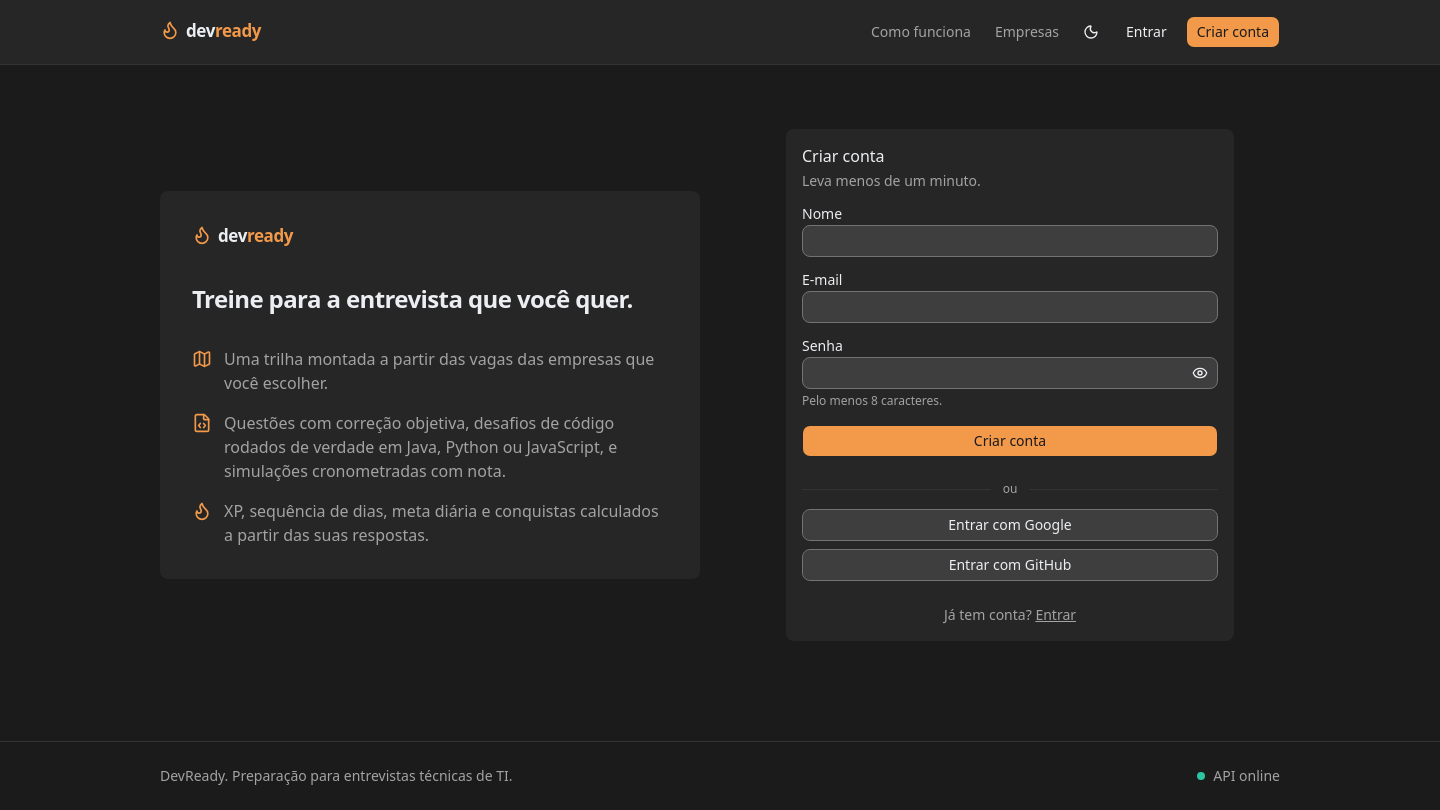
it: RegisterPage › mostra erros de campo vindos da API (422)
Type "Ana" into the field labelled "Nome" at (1010, 241), box [802,225,1218,257]
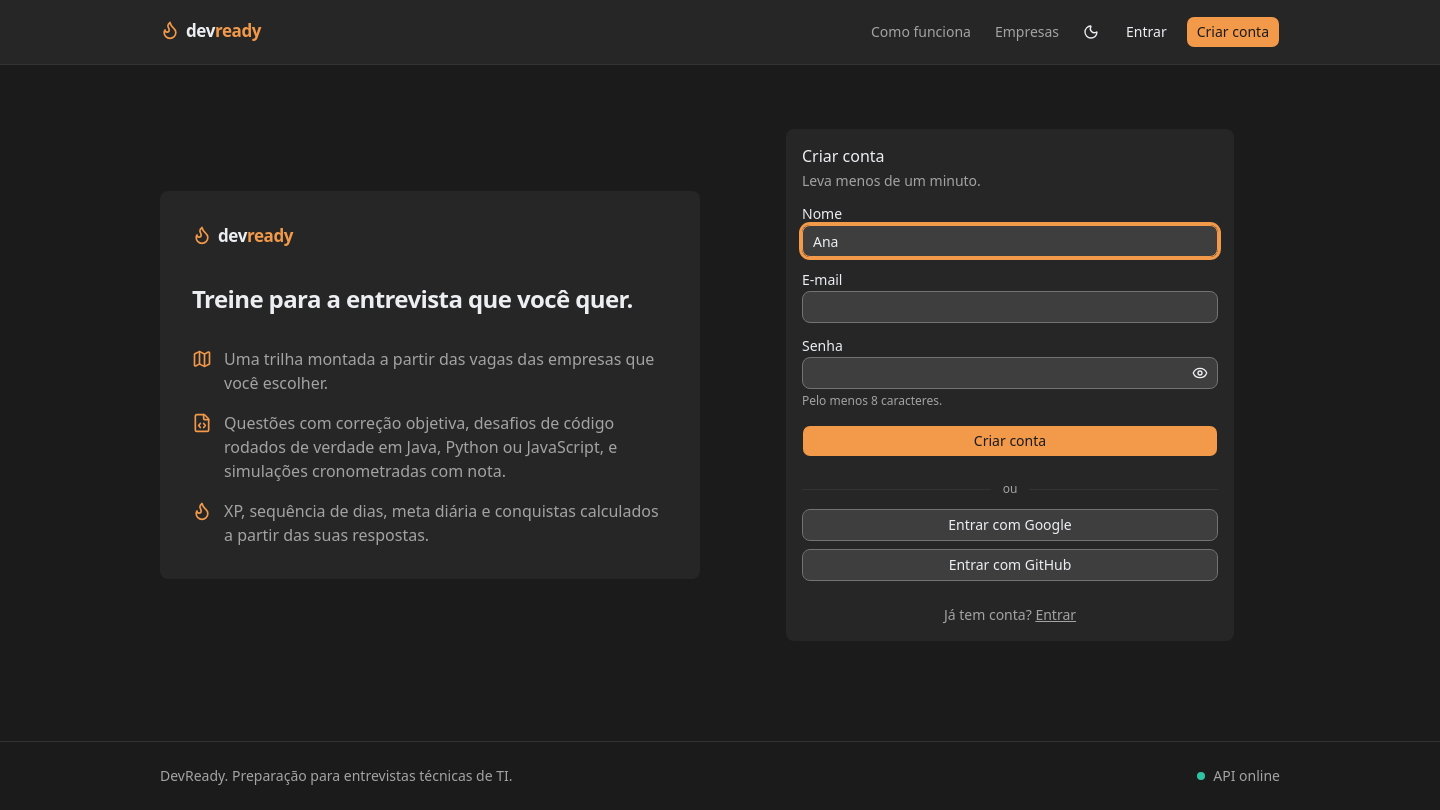
Type "ana@example.com" into the field labelled "E-mail" at (1010, 307), box [802,291,1218,323]
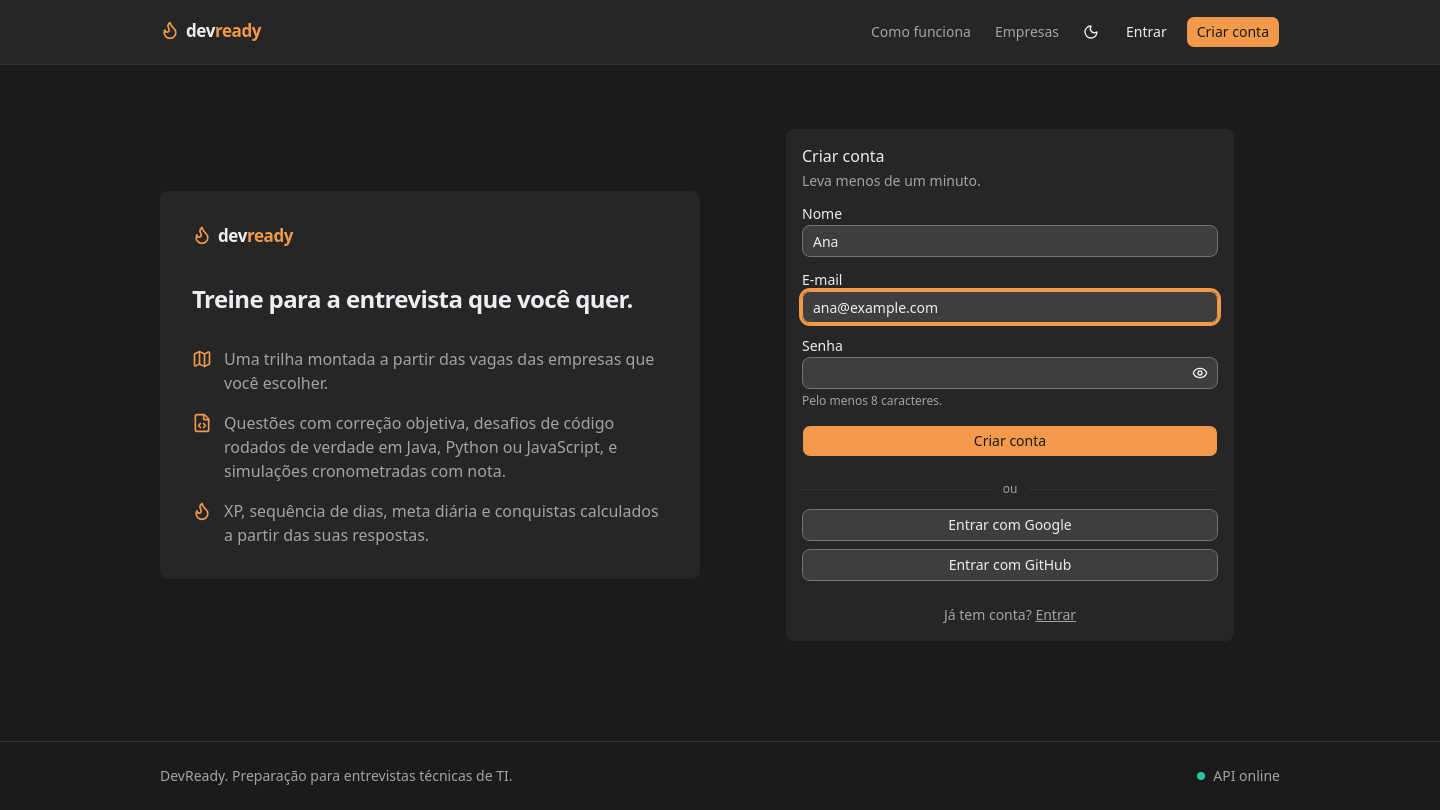
Type "senha-forte" into the password field labelled "Senha" at (1010, 373), box [802,357,1218,389]
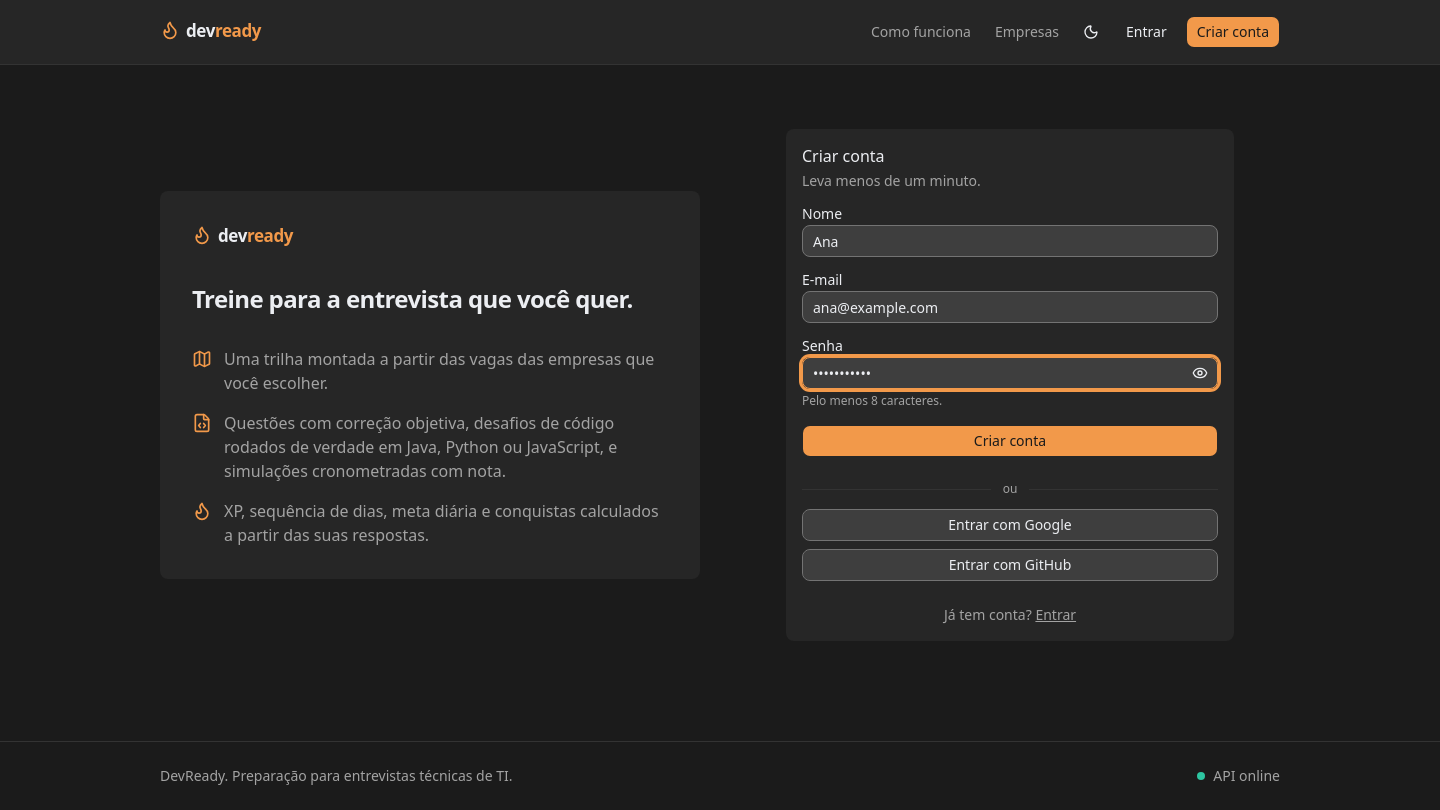
Click the button "Criar conta" at (1010, 441), box [802,425,1218,457]
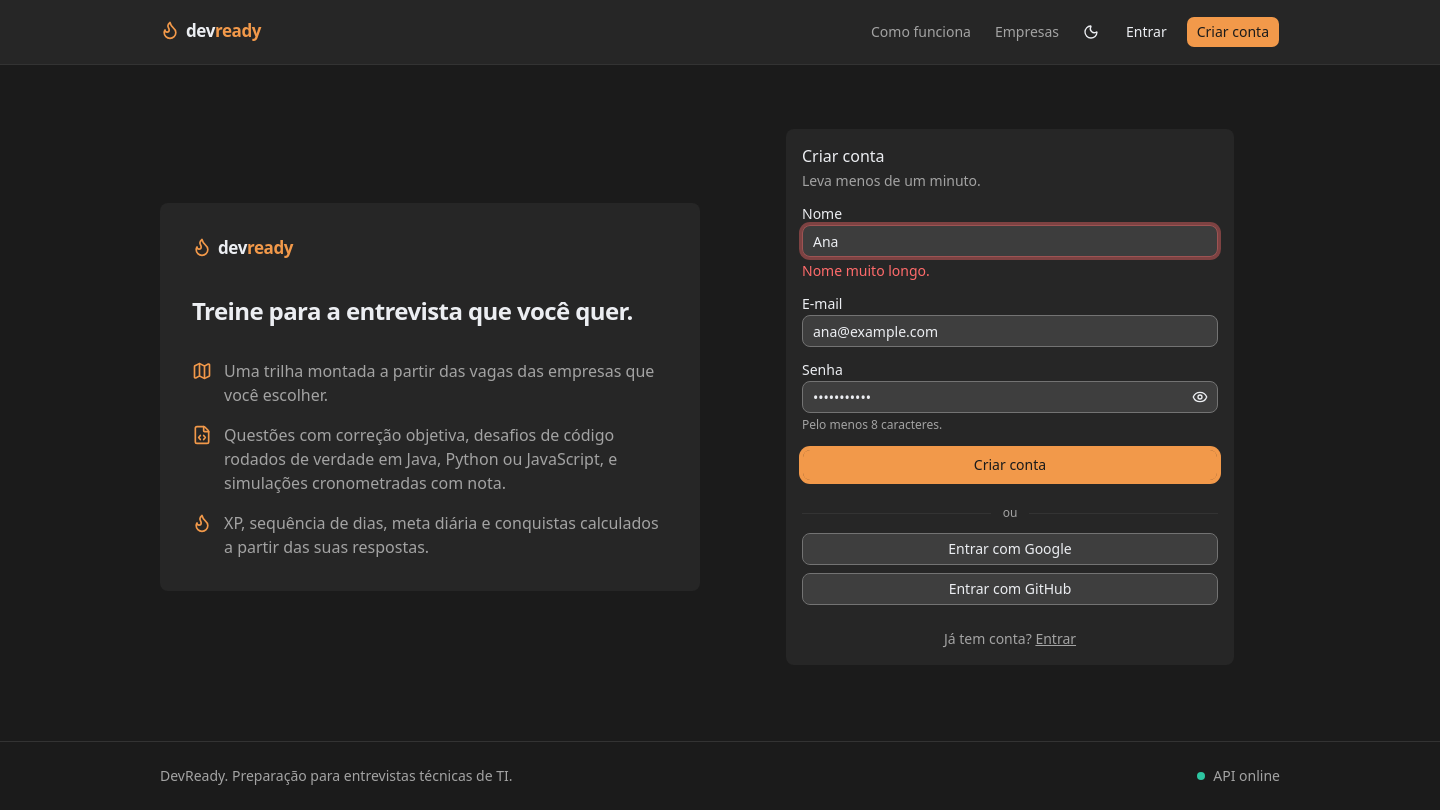
Expected: the text "Nome muito longo." is shown, [802,261,930,280]
